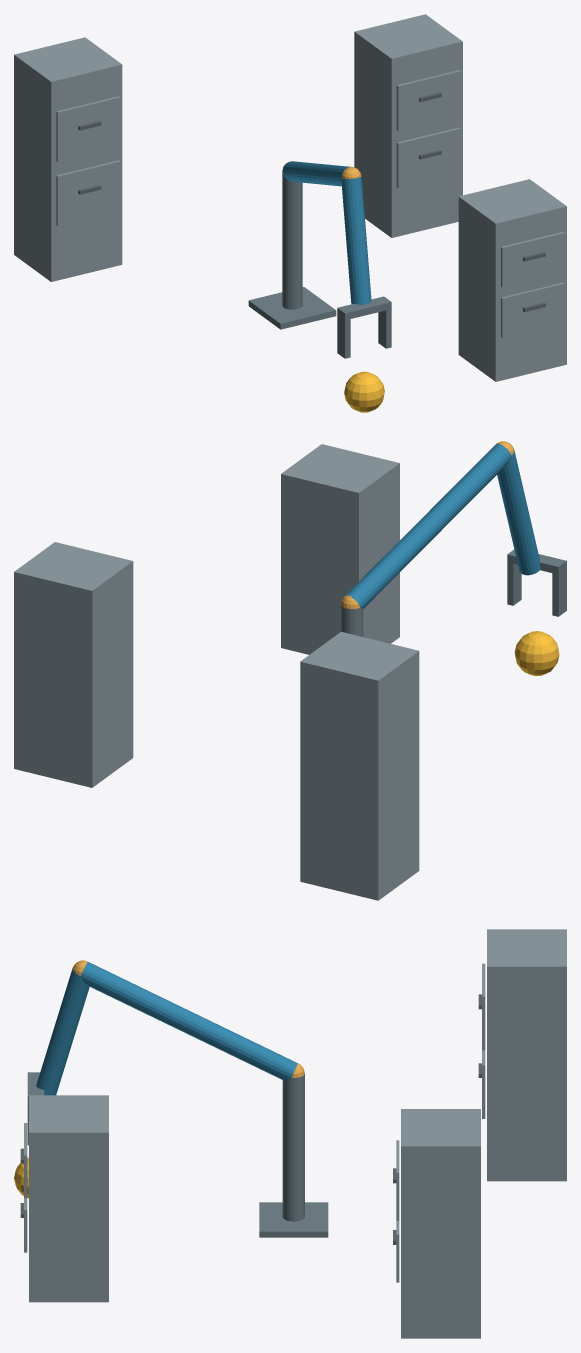
The picture shows the model from 3 angles, top to bottom: view 1: azimuth 30°, elevation 25°; view 2: azimuth 150°, elevation 25°; view 3: azimuth 270°, elevation 25°; orthographic projection. The views are drawn at different scales.
Visible parts, largest first — view 1: cabinet_3 body, cabinet_2 body, cabinet_1 body, cabinet_3 drawer front, cabinet_3 drawer front.001, cabinet_2 drawer front.001, cabinet_2 drawer front, fixed post, moving link 2, cabinet_1 drawer front.001, cabinet_1 drawer front, pedestal (+5 smaller); view 2: cabinet_3 body, cabinet_2 body, cabinet_1 body, moving link 1, moving link 2, ball ball_1, gripper finger -1, fixed post, gripper finger 1; view 3: cabinet_3 body, cabinet_2 body, cabinet_1 body, moving link 1, fixed post, moving link 2, pedestal.
Part boxes in pixels (left/top/right/bottom): cabinet_3 body: left=14, top=37, right=122, bottom=281; cabinet_2 body: left=354, top=14, right=462, bottom=237; cabinet_1 body: left=458, top=179, right=566, bottom=381; cabinet_3 drawer front: left=56, top=160, right=120, bottom=226; cabinet_3 drawer front.001: left=56, top=96, right=120, bottom=162; cabinet_2 drawer front.001: left=396, top=70, right=460, bottom=130; cabinet_2 drawer front: left=396, top=127, right=460, bottom=188; fixed post: left=282, top=172, right=302, bottom=309; moving link 2: left=341, top=176, right=371, bottom=304; cabinet_1 drawer front.001: left=501, top=231, right=564, bottom=287; cabinet_1 drawer front: left=501, top=282, right=564, bottom=338; pedestal: left=248, top=287, right=336, bottom=329; cabinet_3 body: left=300, top=631, right=419, bottom=900; cabinet_2 body: left=14, top=542, right=133, bottom=787; cabinet_1 body: left=281, top=444, right=399, bottom=654; moving link 1: left=345, top=443, right=511, bottom=608; moving link 2: left=497, top=449, right=540, bottom=575; ball ball_1: left=514, top=631, right=559, bottom=675; gripper finger -1: left=552, top=569, right=566, bottom=616; fixed post: left=341, top=605, right=363, bottom=636; gripper finger 1: left=507, top=562, right=521, bottom=605; cabinet_3 body: left=487, top=929, right=566, bottom=1181; cabinet_2 body: left=401, top=1109, right=480, bottom=1338; cabinet_1 body: left=29, top=1095, right=108, bottom=1302; moving link 1: left=80, top=962, right=297, bottom=1080; fixed post: left=282, top=1073, right=304, bottom=1221; moving link 2: left=36, top=968, right=89, bottom=1095; pedestal: left=259, top=1202, right=328, bottom=1237.
Bounding box in the file's own units: 1.67 × 0.966 × 2.01.
